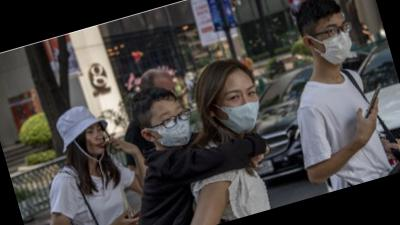with_mask: (209, 82, 267, 140), (145, 102, 197, 153), (309, 18, 358, 69)
without_mask: (82, 123, 109, 158)
